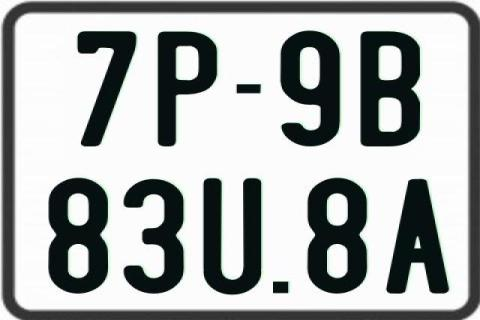0: (48, 178, 114, 294), (305, 177, 367, 297), (280, 31, 340, 150), (76, 30, 135, 146), (125, 177, 184, 292)
A: (386, 177, 452, 296)
B: (361, 31, 422, 147)
P: (158, 32, 219, 150)
U: (200, 178, 262, 294)
